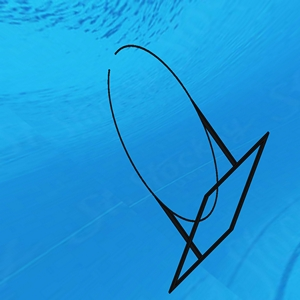circle: (102, 41, 271, 295)
